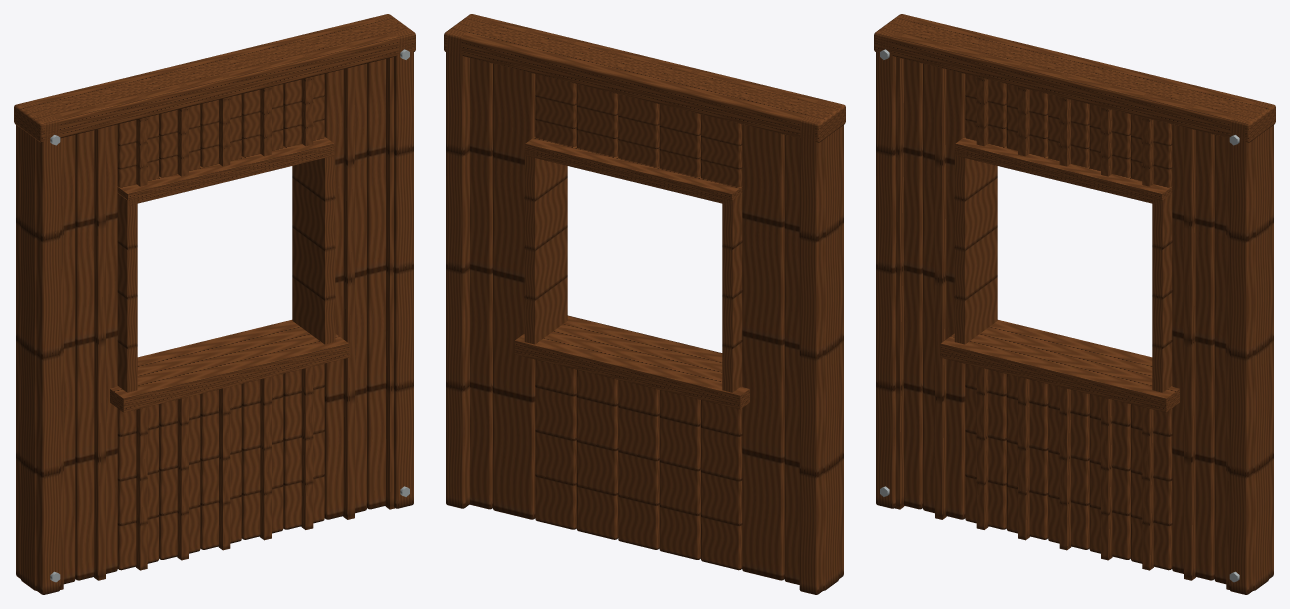
File: rural-scavenging-settlements-cottage-window-wall-037fb35c__26443.glb
3 renders of one model, left to right at view 1: azimuth 30°, elevation 25°; view 2: azimuth 150°, elevation 25°; view 3: azimuth 330°, elevation 25°, orthographic.
Parts seen in each view (by area): view 1: cottage-window-wall; view 2: cottage-window-wall; view 3: cottage-window-wall.
Boxes of the visible parts, x1,y1,x2,y2 form: cottage-window-wall: (14, 14, 415, 594); cottage-window-wall: (444, 14, 845, 594); cottage-window-wall: (874, 14, 1275, 594).
Bounding box in the file's own units: 2 × 2.4 × 0.3601.
Materials: 2 (1 with a texture image).
